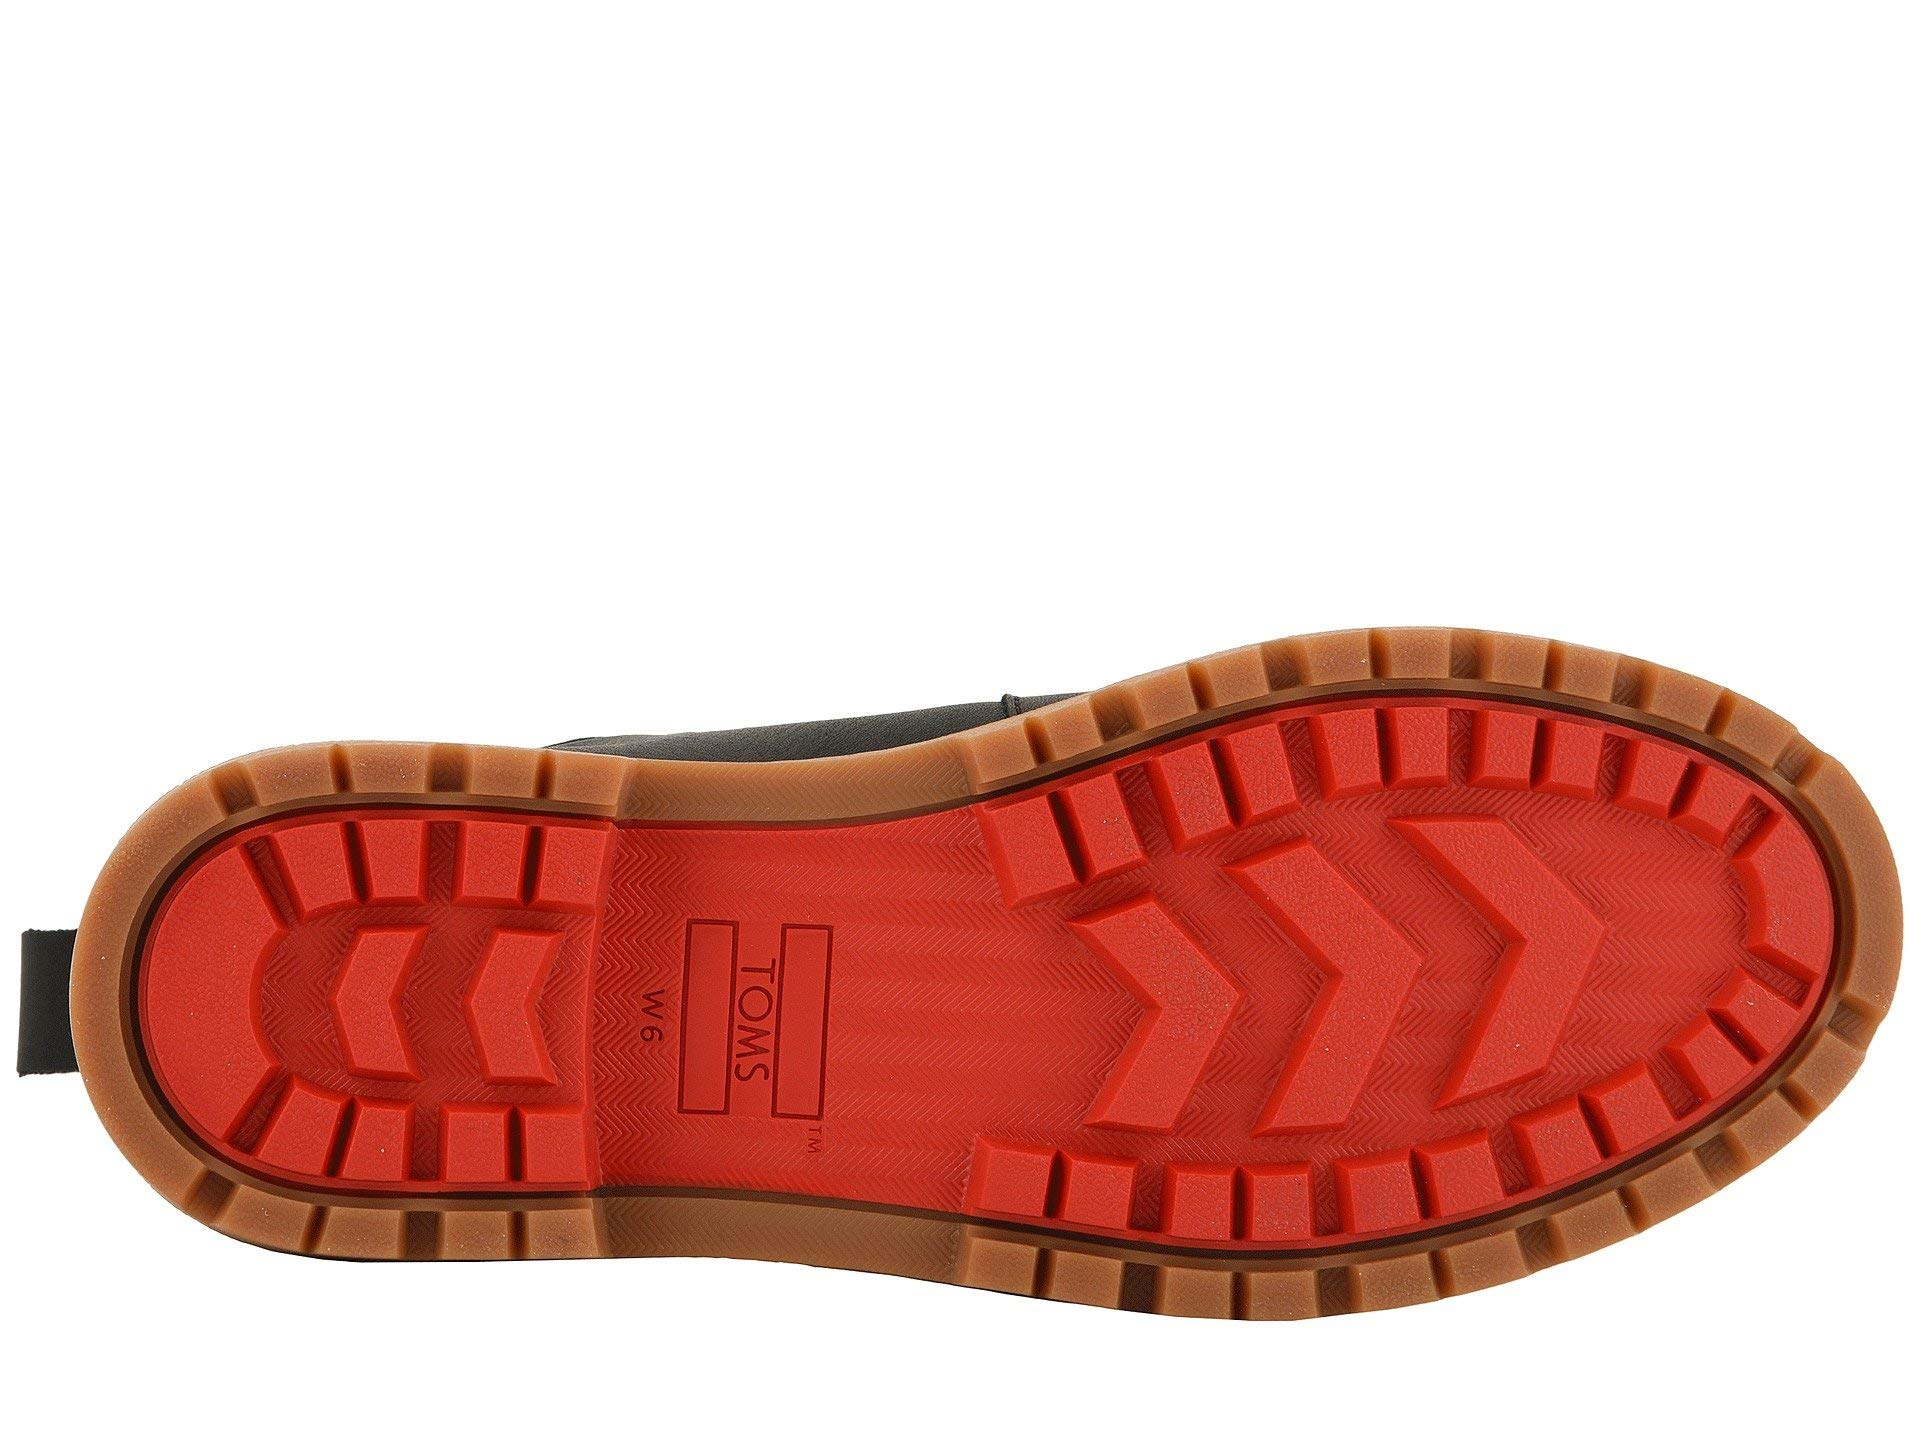chevron: (955, 714, 1468, 1224), (568, 871, 919, 1128), (262, 897, 558, 1127)
circle: (568, 871, 919, 1128)
quad: (955, 714, 1468, 1224), (568, 871, 919, 1128)
text: (568, 871, 919, 1128)
